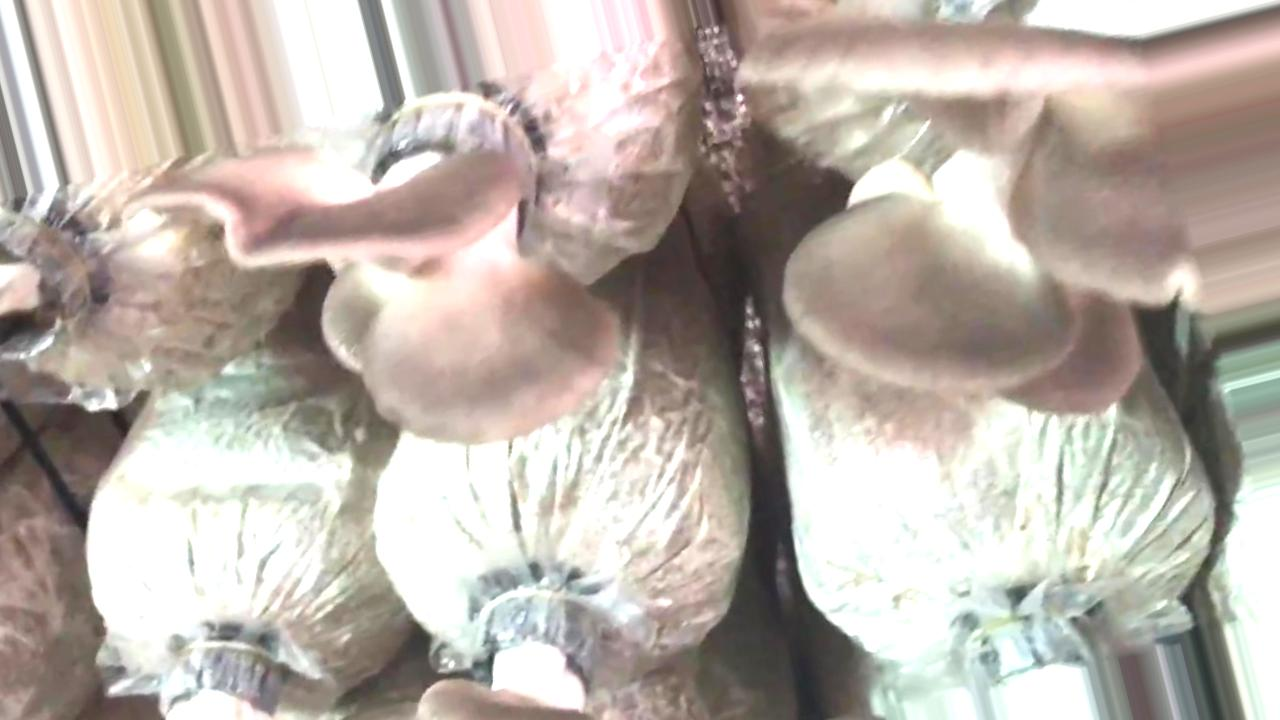nam: (743, 1, 1276, 420), (139, 85, 620, 446), (413, 567, 597, 720)
